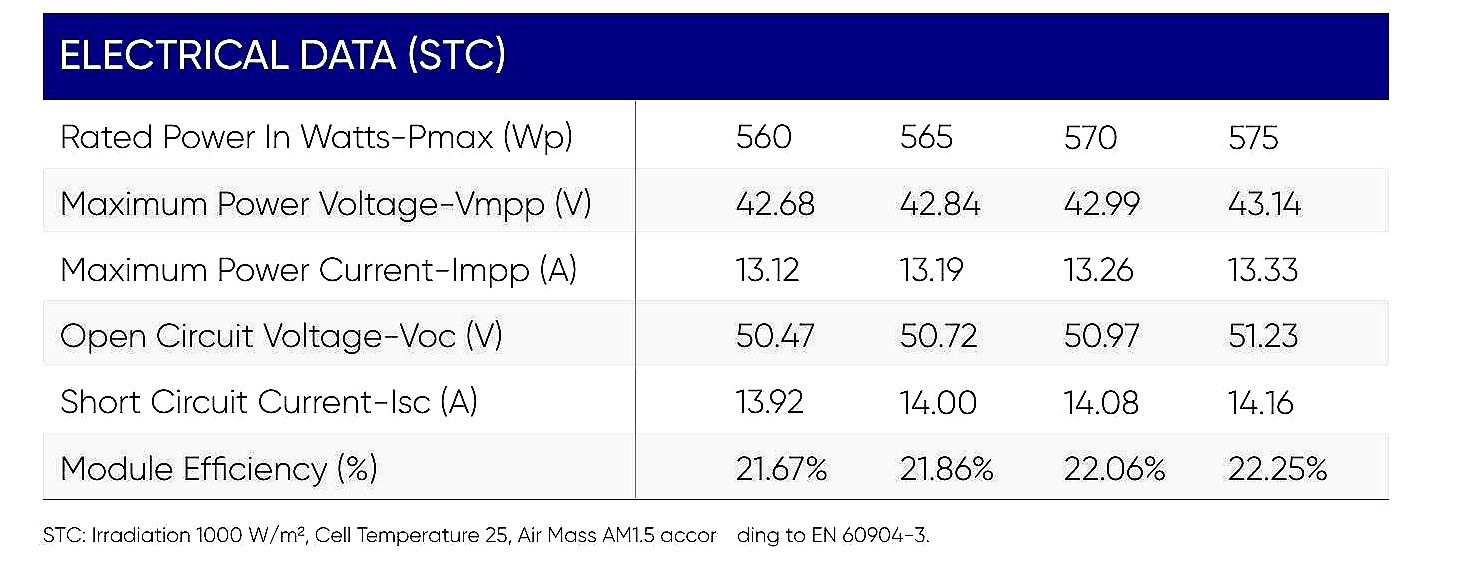table: (32, 7, 1402, 509)
table column: (42, 13, 637, 498), (638, 13, 852, 500), (1202, 10, 1388, 499), (849, 11, 1025, 496), (1026, 13, 1202, 498)
table name: (40, 13, 1392, 98)
table row: (42, 13, 1387, 100), (42, 366, 1391, 433), (42, 101, 1388, 168), (40, 298, 1392, 364), (42, 433, 1394, 499), (42, 233, 1393, 299), (43, 169, 1389, 234)
table row header: (41, 13, 637, 498)
table spanning cell: (42, 12, 1391, 100)
